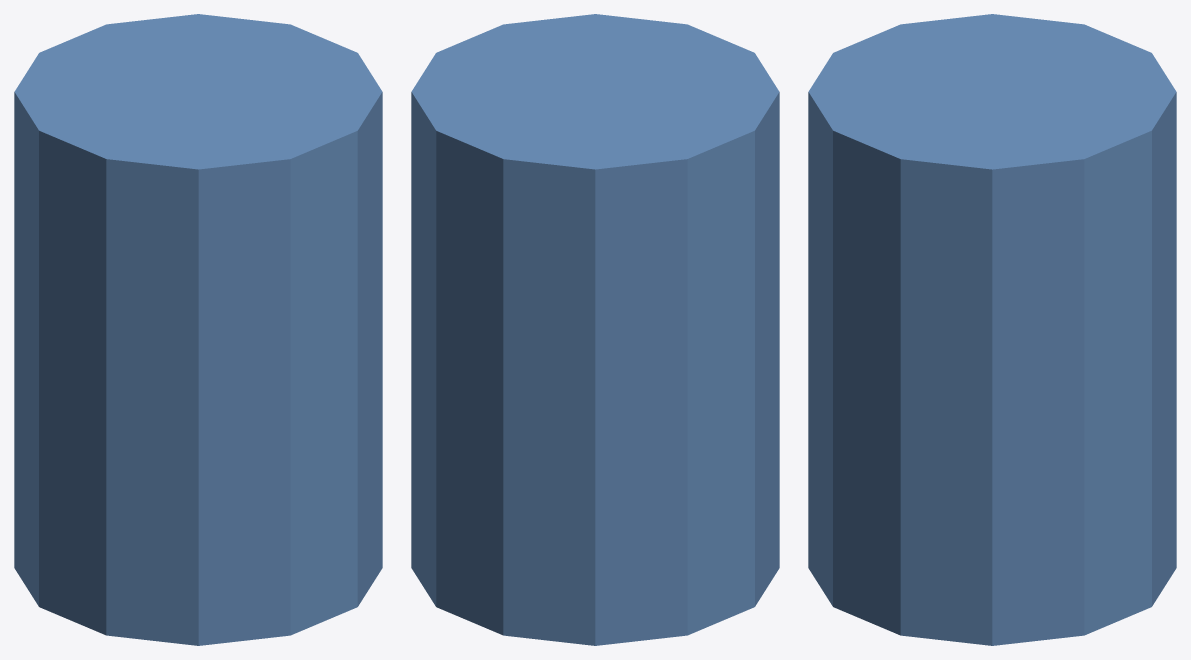
The model's file is recycling_receptacle.glb.
3 renders of one model, left to right at view 1: azimuth 30°, elevation 25°; view 2: azimuth 150°, elevation 25°; view 3: azimuth 270°, elevation 25°, orthographic.
Visible parts, largest first — view 1: bin; view 2: bin; view 3: bin.
Part boxes in pixels (x1,y1,x2,y2): bin: [14, 14, 382, 645]; bin: [411, 14, 779, 645]; bin: [808, 14, 1176, 645].
Bounding box in the file's own units: 0.7002 × 1 × 0.7002.
